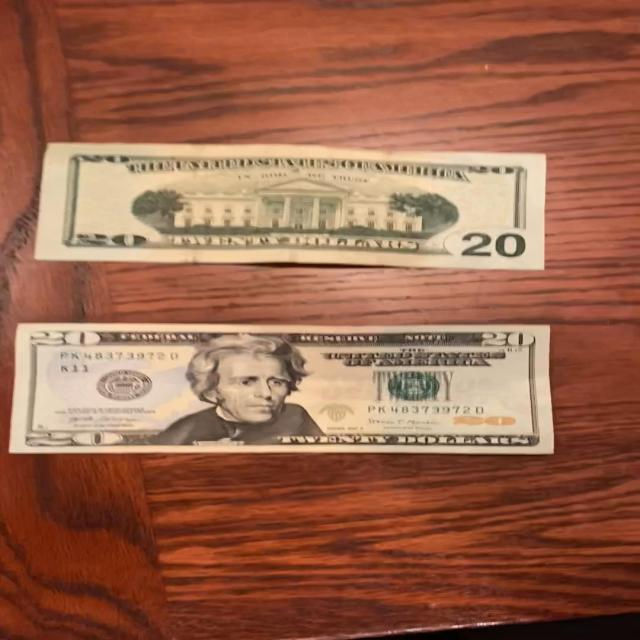20-Back: (32, 144, 554, 274)
20-Front: (0, 314, 578, 464)
